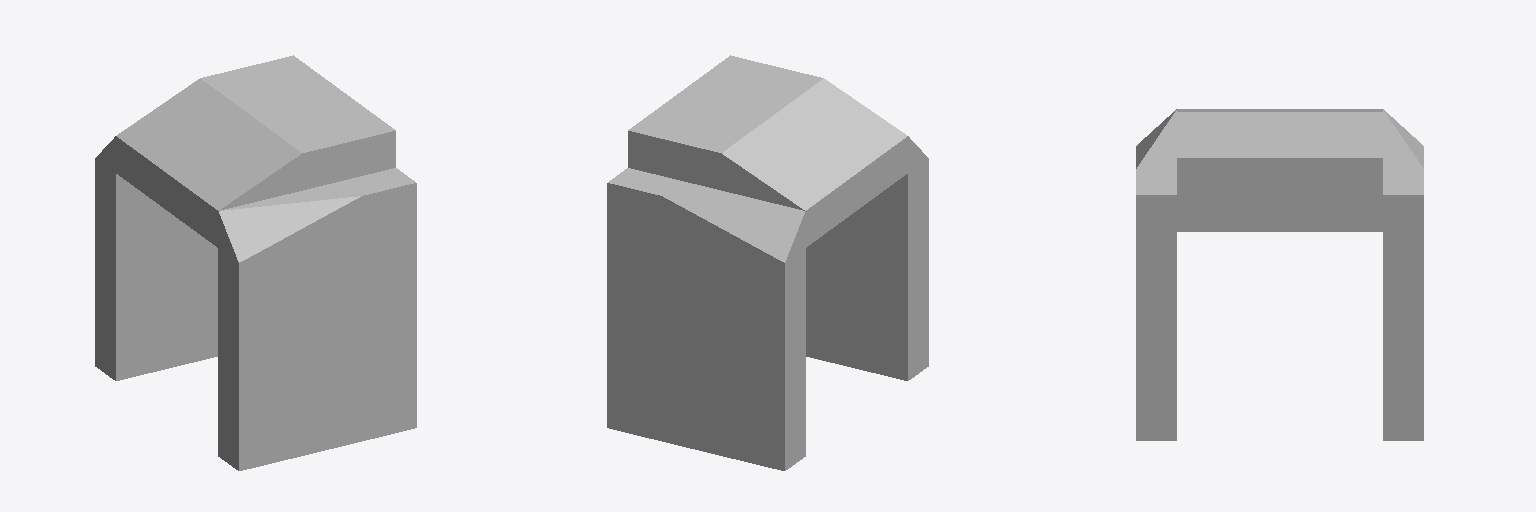
The model's file is tunnel-part2.obj.
3 renders of one model, left to right at view 1: azimuth 30°, elevation 25°; view 2: azimuth 150°, elevation 25°; view 3: azimuth 270°, elevation 25°, orthographic.
Parts seen in each view (by area): view 1: Cube.005; view 2: Cube.005; view 3: Cube.005.
Boxes of the visible parts, box(x1,y1,x2,y2) form: Cube.005: box(95, 55, 416, 470); Cube.005: box(607, 55, 928, 470); Cube.005: box(1136, 109, 1423, 440).
Size of the model in its own units: 1.5 by 2.28 by 2.1.